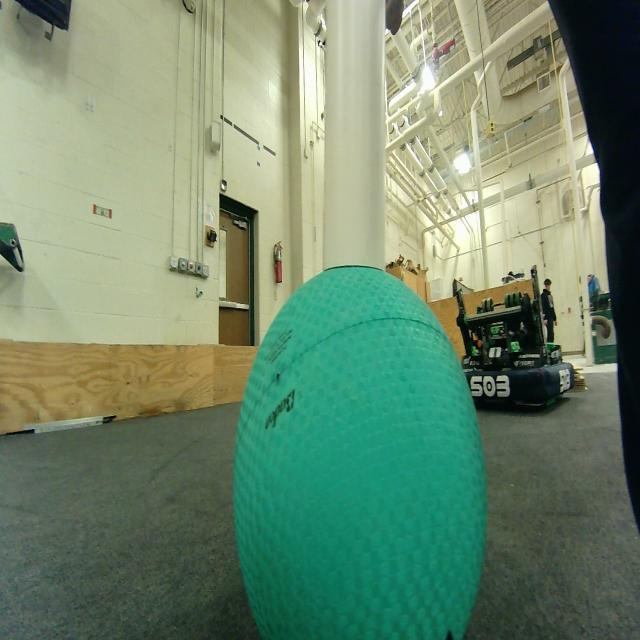algae: (231, 264, 492, 640)
coral: (321, 0, 402, 280)
